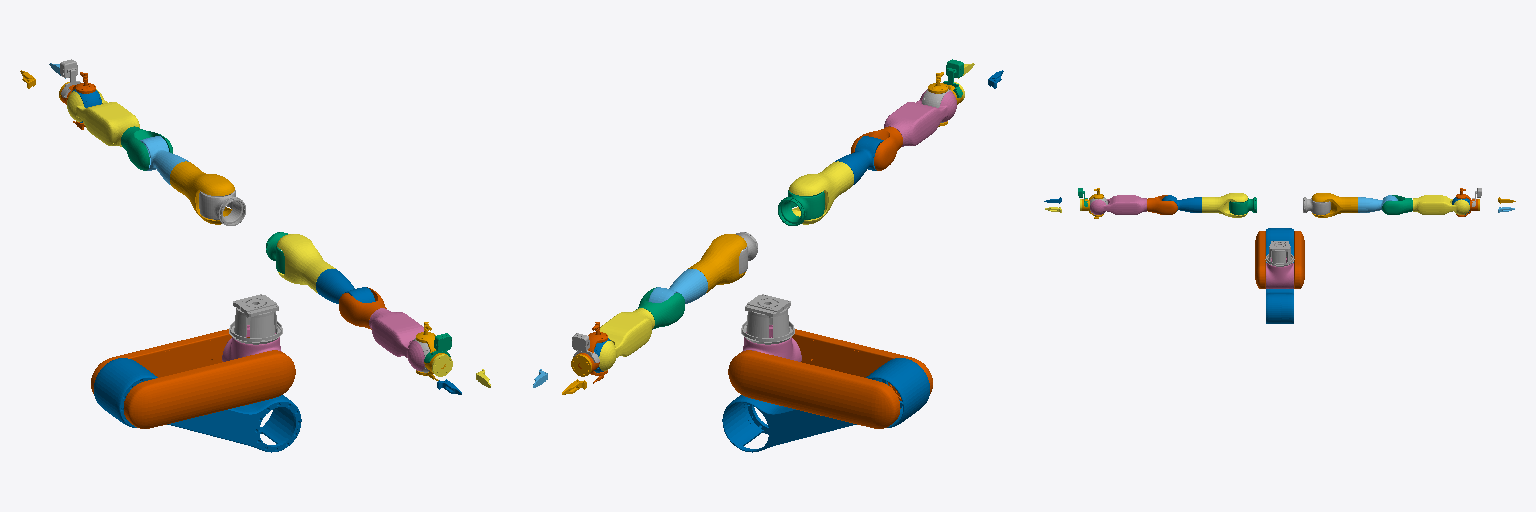
--- Render facts (derived) ---
Views: 3 orthographic renders of the robot side by side, from view 1: azimuth 30°, elevation 25°; view 2: azimuth 150°, elevation 25°; view 3: azimuth 270°, elevation 25°.
Model galbot_one_charlie with 59 links and 58 joints (24 revolute, 8 continuous, 26 fixed), rooted at base_link, posed all joints at 0.
Links seen in each view (by area): view 1: leg_link2, leg_link1, right_arm_link5, left_arm_link5, leg_link4, right_arm_link2, left_arm_link2, right_arm_link3, left_arm_link1, right_arm_link4, left_arm_link4, left_arm_link3 (+1 smaller); view 2: leg_link2, leg_link1, left_arm_link5, right_arm_link5, leg_link4, left_arm_link2, right_arm_link2, left_arm_link3, right_arm_link1, right_arm_link4, left_arm_link4, right_arm_link3 (+1 smaller); view 3: leg_link1, leg_link2, right_arm_link5, left_arm_link5, right_arm_link2, left_arm_link2, leg_link3, leg_link4.
Link boxes in pixels (x1=…): leg_link2: x1=91, y1=329, x2=295, y2=428; leg_link1: x1=94, y1=358, x2=301, y2=452; right_arm_link5: x1=369, y1=308, x2=424, y2=370; left_arm_link5: x1=67, y1=89, x2=139, y2=146; leg_link4: x1=229, y1=294, x2=282, y2=344; right_arm_link2: x1=277, y1=234, x2=335, y2=292; left_arm_link2: x1=170, y1=161, x2=234, y2=224; right_arm_link3: x1=316, y1=269, x2=375, y2=303; left_arm_link1: x1=199, y1=190, x2=245, y2=225; right_arm_link4: x1=339, y1=287, x2=386, y2=329; left_arm_link4: x1=121, y1=126, x2=172, y2=170; left_arm_link3: x1=140, y1=136, x2=188, y2=184; leg_link2: x1=728, y1=329, x2=932, y2=428; leg_link1: x1=722, y1=358, x2=929, y2=452; left_arm_link5: x1=599, y1=308, x2=654, y2=370; right_arm_link5: x1=884, y1=89, x2=956, y2=146; leg_link4: x1=741, y1=294, x2=794, y2=344; left_arm_link2: x1=688, y1=234, x2=746, y2=292; right_arm_link2: x1=789, y1=161, x2=853, y2=224; left_arm_link3: x1=648, y1=269, x2=707, y2=303; right_arm_link1: x1=778, y1=190, x2=824, y2=225; right_arm_link4: x1=851, y1=126, x2=902, y2=170; left_arm_link4: x1=636, y1=287, x2=684, y2=329; right_arm_link3: x1=835, y1=136, x2=883, y2=184; leg_link1: x1=1266, y1=228, x2=1293, y2=323; leg_link2: x1=1255, y1=231, x2=1304, y2=288; right_arm_link5: x1=1090, y1=195, x2=1146, y2=214; left_arm_link5: x1=1413, y1=195, x2=1469, y2=214; right_arm_link2: x1=1202, y1=193, x2=1247, y2=217; left_arm_link2: x1=1312, y1=193, x2=1357, y2=217; leg_link3: x1=1266, y1=257, x2=1293, y2=288; leg_link4: x1=1265, y1=241, x2=1294, y2=266.
Bounding box of the posed robot: 0.573 × 2.38 × 0.7349 m (x, y, z).
Meshes: 32 distinct files referenced, 26 mesh visuals loaded (22 OBJ); not drawn: 17 (reference not matched to a file when rendering).

The robot description file, URDF, robot "galbot_one_charlie":
<?xml version="1.0"?>
<!-- =================================================================================== -->
<!-- |    This document was autogenerated by xacro from galbot_one_charlie.xacro       | -->
<!-- |    EDITING THIS FILE BY HAND IS NOT RECOMMENDED                                 | -->
<!-- =================================================================================== -->
<!-- 
#####################################################################################
#
# Copyright (c) 2023-2025 Galbot, Inc. All rights Reserved.
#
# This software contains confidential and proprietary information of Galbot, Inc.
# ("Confidential Information"). You shall not disclose such Confidential Information
# and shall use it only in accordance with the terms of the license agreement you
# entered into with Galbot, Inc.
#
# UNAUTHORIZED COPYING, USE, OR DISTRIBUTION OF THIS SOFTWARE, OR ANY PORTION OR
# DERIVATIVE THEREOF, IS STRICTLY PROHIBITED. IF YOU HAVE RECEIVED THIS SOFTWARE IN
# ERROR, PLEASE NOTIFY GALBOT, INC. IMMEDIATELY AND DELETE IT FROM YOUR SYSTEM.
#
#####################################################################################
#
# Description: URDF file for Galbot One Charlie.
# Author: Herman Ye@Galbot, Yuhao Zeng@Galbot
#
#####################################################################################
-->
<robot name="galbot_one_charlie">
  <!-- ROBOT -->
  <!-- Robot Base Link -->
  <link name="base_link">
  </link>
  <joint name="omni_chassis_joint" type="fixed">
    <origin rpy="0 0 0" xyz="0 0 0" />
    <parent link="base_link" />
    <child link="omni_chassis_base_link" />
  </joint>
  <link name="omni_chassis_base_link">
    <inertial>
      <origin rpy="0 0 0" xyz="0.00310 0.00022 0.09001" />
      <mass value="25.85" />
      <inertia ixx="1.12288" ixy="0.0" ixz="0.0" iyy="1.15522" iyz="0.0" izz="1.58321" />
    </inertial>
    <visual>
      <origin rpy="0 0 0" xyz="0 0 0" />
      <geometry>
        <mesh filename="meshes/chassis/omni_chassis_base_link.obj" />
      </geometry>
    </visual>
    <collision>
      <origin rpy="0 0 0" xyz="0 0 0" />
      <geometry>
        <mesh filename="meshes/chassis/omni_chassis_base_link.stl" />
      </geometry>
    </collision>
  </link>
  <link name="omni_chassis_leg_mount_link">
    <inertial>
      <origin rpy="0 0 0" xyz="0 0 0" />
      <mass value="0" />
      <inertia ixx="0" ixy="0" ixz="0" iyy="0" iyz="0" izz="0" />
    </inertial>
  </link>
  <joint name="omni_chassis_leg_mount_joint" type="fixed">
    <origin rpy="0 0 0" xyz="0.134 0 0.13" />
    <parent link="omni_chassis_base_link" />
    <child link="omni_chassis_leg_mount_link" />
    <axis xyz="0 0 0" />
  </joint>
  <joint name="leg_joint" type="fixed">
    <origin rpy="0 0 0" xyz="0 0 0" />
    <parent link="omni_chassis_leg_mount_link" />
    <child link="leg_base_link" />
  </joint>
  <link name="leg_base_link">
    <inertial>
      <origin rpy="0 0 0" xyz="0.00138 -0.01502 -0.05360" />
      <mass value="1.98" />
      <inertia ixx="0.01545" ixy="0.0" ixz="0.0" iyy="0.01172" iyz="0.0" izz="0.00904" />
    </inertial>
  </link>
  <link name="leg_link1">
    <inertial>
      <origin rpy="0 0 0" xyz="0.23126 0.00187 -0.01166" />
      <mass value="13.38" />
      <inertia ixx="0.05540" ixy="0.00267" ixz="-0.03511" iyy="1.17040" iyz="-0.00012" izz="1.15967" />
    </inertial>
    <visual>
      <origin rpy="0 0 0" xyz="0 0 0" />
      <geometry>
        <mesh filename="meshes/leg/leg_link1.obj" />
      </geometry>
    </visual>
    <collision>
      <origin rpy="0 0 0" xyz="0 0 0" />
      <geometry>
        <mesh filename="meshes/leg/leg_link1.stl" />
      </geometry>
    </collision>
  </link>
  <joint name="leg_joint1" type="revolute">
    <origin rpy="-1.5707963267948966 -2.756573021 0" xyz="0 0 0" />
    <parent link="leg_base_link" />
    <child link="leg_link1" />
    <axis xyz="0 0 1" />
    <limit effort="169" lower="0" upper="0.994837674" velocity="1" />
  </joint>
  <link name="leg_link2">
    <inertial>
      <origin rpy="0 0 0" xyz="0.18340 0.00001 0.01143" />
      <mass value="4.72" />
      <inertia ixx="0.04727" ixy="0.00001" ixz="0.01147" iyy="0.29026" iyz="0.00001" izz="0.25782" />
    </inertial>
    <visual>
      <origin rpy="0 0 0" xyz="0 0 0" />
      <geometry>
        <mesh filename="meshes/leg/leg_link2.obj" />
      </geometry>
    </visual>
    <collision>
      <origin rpy="0 0 0" xyz="0 0 0" />
      <geometry>
        <mesh filename="meshes/leg/leg_link2.stl" />
      </geometry>
    </collision>
  </link>
  <joint name="leg_joint2" type="revolute">
    <origin rpy="-3.141592653589793 0 2.756573021" xyz="0.45 0 0" />
    <parent link="leg_link1" />
    <child link="leg_link2" />
    <axis xyz="0 0 1" />
    <limit effort="169" lower="0" upper="3.05" velocity="1" />
  </joint>
  <link name="leg_link3">
    <inertial>
      <origin rpy="0 0 0" xyz="0.00004 0.03287 -0.00556" />
      <mass value="6.04" />
      <inertia ixx="0.02981" ixy="0.00001" ixz="-0.00000" iyy="0.02294" iyz="-0.00079" izz="0.03182" />
    </inertial>
    <visual>
      <origin rpy="0 0 0" xyz="0 0 0" />
      <geometry>
        <mesh filename="meshes/leg/leg_link3.obj" />
      </geometry>
    </visual>
    <collision>
      <origin rpy="0 0 0" xyz="0 0 0" />
      <geometry>
        <mesh filename="meshes/leg/leg_link3.stl" />
      </geometry>
    </collision>
  </link>
  <joint name="leg_joint3" type="revolute">
    <origin rpy="-3.141592653589793 0 -3.141592653589793" xyz="0.39 0 0" />
    <parent link="leg_link2" />
    <child link="leg_link3" />
    <axis xyz="0 0 1" />
    <limit effort="84" lower="0" upper="2.35619449" velocity="1" />
  </joint>
  <link name="leg_link4">
    <inertial>
      <origin rpy="0 0 0" xyz="0.00006 -0.00003 0.14494" />
      <mass value="0.55" />
      <inertia ixx="0.01267" ixy="0.00000" ixz="0.00001" iyy="0.01270" iyz="-0.00000" izz="0.00125" />
    </inertial>
    <visual>
      <origin rpy="0 0 0" xyz="0 0 0" />
      <geometry>
        <mesh filename="meshes/leg/leg_link4.obj" />
      </geometry>
    </visual>
    <collision>
      <origin rpy="0 0 0" xyz="0 0 0" />
      <geometry>
        <mesh filename="meshes/leg/leg_link4.stl" />
      </geometry>
    </collision>
  </link>
  <joint name="leg_joint4" type="revolute">
    <origin rpy="1.5707963267948966 0 -3.141592653589793" xyz="0 0 0" />
    <parent link="leg_link3" />
    <child link="leg_link4" />
    <axis xyz="0 0 1" />
    <limit effort="30" lower="-1.570796327" upper="1.570796327" velocity="1" />
  </joint>
  <link name="leg_end_effector_mount_link">
    <inertial>
      <origin rpy="0 0 0" xyz="0 0 0" />
      <mass value="0" />
      <inertia ixx="0" ixy="0" ixz="0" iyy="0" iyz="0" izz="0" />
    </inertial>
  </link>
  <joint name="leg_end_effector_mount_joint" type="fixed">
    <origin rpy="0 0 0" xyz="0 0 0" />
    <parent link="leg_link4" />
    <child link="leg_end_effector_mount_link" />
    <axis xyz="0 0 0" />
  </joint>
  <joint name="torso_joint" type="fixed">
    <origin rpy="0 0 0" xyz="0 0 0" />
    <parent link="leg_end_effector_mount_link" />
    <child link="torso_base_link" />
  </joint>
  <link name="torso_base_link">
    <inertial>
      <origin rpy="0 0 0" xyz="0.00004 0.00011 0.32719" />
      <mass value="6.68" />
      <inertia ixx="0.87119" ixy="0.00009" ixz="-0.00496" iyy="0.85457" iyz="0.00295" izz="0.06560" />
    </inertial>
    <visual>
      <origin rpy="0 0 0" xyz="0 0 0" />
      <geometry>
        <mesh filename="meshes/torso/torso_base_link.obj" />
      </geometry>
    </visual>
    <collision>
      <origin rpy="0 0 0" xyz="0 0 0" />
      <geometry>
        <mesh filename="meshes/torso/torso_base_link.stl" />
      </geometry>
    </collision>
  </link>
  <!-- Head Mount -->
  <link name="torso_head_mount_link">
    <inertial>
      <origin rpy="0 0 0" xyz="0 0 0" />
      <mass value="0" />
      <inertia ixx="0" ixy="0" ixz="0" iyy="0" iyz="0" izz="0" />
    </inertial>
  </link>
  <joint name="torso_head_mount_joint" type="fixed">
    <origin rpy="0 0 0" xyz="-0.0081669 5E-05 0.58394" />
    <parent link="torso_base_link" />
    <child link="torso_head_mount_link" />
    <axis xyz="0 0 0" />
  </joint>
  <!-- Right Arm Mount -->
  <link name="torso_right_arm_mount_link">
    <inertial>
      <origin rpy="0 0 0" xyz="0 0 0" />
      <mass value="0" />
      <inertia ixx="0" ixy="0" ixz="0" iyy="0" iyz="0" izz="0" />
    </inertial>
  </link>
  <joint name="torso_right_arm_mount_joint" type="fixed">
    <origin rpy="-1.5707963267948966 0 3.141592653589793" xyz="0 -0.206 0.39599" />
    <parent link="torso_base_link" />
    <child link="torso_right_arm_mount_link" />
    <axis xyz="0 0 0" />
  </joint>
  <!-- Left Arm Mount -->
  <link name="torso_left_arm_mount_link">
    <inertial>
      <origin rpy="0 0 0" xyz="0 0 0" />
      <mass value="0" />
      <inertia ixx="0" ixy="0" ixz="0" iyy="0" iyz="0" izz="0" />
    </inertial>
  </link>
  <joint name="torso_left_arm_mount_joint" type="fixed">
    <origin rpy="1.5707963267948966 0 3.141592653589793" xyz="0 0.206 0.39599" />
    <parent link="torso_base_link" />
    <child link="torso_left_arm_mount_link" />
    <axis xyz="0 0 0" />
  </joint>
  <joint name="head_joint" type="fixed">
    <origin rpy="0 0 0" xyz="0 0 0" />
    <parent link="torso_head_mount_link" />
    <child link="head_base_link" />
  </joint>
  <link name="head_base_link">
    <inertial>
      <origin rpy="0 0 0" xyz="0 0 0" />
      <mass value="0" />
      <inertia ixx="0" ixy="0" ixz="0" iyy="0" iyz="0" izz="0" />
    </inertial>
  </link>
  <link name="head_link1">
    <inertial>
      <origin rpy="0 0 0" xyz="0.00000 0.00004 -0.04238" />
      <mass value="0.41" />
      <inertia ixx="0.00110" ixy="-0.00000" ixz="0.00000" iyy="0.00113" iyz="0.00008" izz="0.00014" />
    </inertial>
  </link>
  <joint name="head_joint1" type="revolute">
    <origin rpy="0 0 0" xyz="0 0 0" />
    <parent link="head_base_link" />
    <child link="head_link1" />
    <axis xyz="0 0 1" />
    <limit effort="4" lower="-1.570796327" upper="1.570796327" velocity="1.5" />
  </joint>
  <link name="head_link2">
    <inertial>
      <origin rpy="0 0 0" xyz="0.03200 -0.03753 0.00162" />
      <mass value="0.75" />
      <inertia ixx="0.00380" ixy="-0.00070" ixz="0.00000" iyy="0.00367" iyz="-0.00000" izz="0.00538" />
    </inertial>
    <visual>
      <origin rpy="0 0 0" xyz="0 0 0" />
      <geometry>
        <mesh filename="meshes/head/head_link2.obj" />
      </geometry>
    </visual>
    <collision>
      <origin rpy="0 0 0" xyz="0 0 0" />
      <geometry>
        <mesh filename="meshes/head/head_link2.stl" />
      </geometry>
    </collision>
  </link>
  <joint name="head_joint2" type="revolute">
    <origin rpy="-1.5707963267948966 0 0" xyz="0 0 0" />
    <parent link="head_link1" />
    <child link="head_link2" />
    <axis xyz="0 0 1" />
    <limit effort="4" lower="-0.366519143" upper="0.366519143" velocity="1.5" />
  </joint>
  <link name="head_end_effector_mount_link">
    <inertial>
      <origin rpy="0 0 0" xyz="0 0 0" />
      <mass value="0" />
      <inertia ixx="0" ixy="0" ixz="0" iyy="0" iyz="0" izz="0" />
    </inertial>
  </link>
  <joint name="head_end_effector_mount_joint" type="fixed">
    <origin rpy="0 0 0" xyz="0 0 0" />
    <parent link="head_link2" />
    <child link="head_end_effector_mount_link" />
    <axis xyz="0 0 0" />
  </joint>
  <joint name="right_arm_joint" type="fixed">
    <origin rpy="0 0 0" xyz="0 0 0" />
    <parent link="torso_right_arm_mount_link" />
    <child link="right_arm_base_link" />
  </joint>
  <link name="right_arm_base_link">
    <inertial>
      <origin rpy="0 0 0" xyz="-0.00037 -0.00006 -0.11407" />
      <mass value="0.9" />
      <inertia ixx="0.01248" ixy="0.00000" ixz="0.00003" iyy="0.01247" iyz="0.00003" izz="0.00056" />
    </inertial>
  </link>
  <link name="right_arm_link1">
    <inertial>
      <origin rpy="0 0 0" xyz="0.00000 -0.00650 -0.01459" />
      <mass value="1.48" />
      <inertia ixx="0.00378" ixy="0.00000" ixz="0.00000" iyy="0.00460" iyz="0.00008" izz="0.00217" />
    </inertial>
    <visual>
      <origin rpy="0 0 0" xyz="0 0 0" />
      <geometry>
        <mesh filename="meshes/arm/right_arm_link1.obj" />
      </geometry>
    </visual>
    <collision>
      <origin rpy="0 0 0" xyz="0 0 0" />
      <geometry>
        <mesh filename="meshes/arm/right_arm_link1.stl" />
      </geometry>
    </collision>
  </link>
  <joint name="right_arm_joint1" type="revolute">
    <origin rpy="0 0 0" xyz="0 0 0" />
    <parent link="right_arm_base_link" />
    <child link="right_arm_link1" />
    <axis xyz="0 0 1" />
    <limit acceleration="2" effort="60" jerk="12" lower="-3" upper="3" velocity="1.5" />
    <dynamics damping="0" friction="0" />
  </joint>
  <link name="right_arm_link2">
    <inertial>
      <origin rpy="0 0 0" xyz="-0.00080 -0.09873 0.00815" />
      <mass value="1.33" />
      <inertia ixx="0.01827" ixy="0.00003" ixz="0.00001" iyy="0.00232" iyz="0.00080" izz="0.01769" />
    </inertial>
    <visual>
      <origin rpy="0 0 0" xyz="0 0 0" />
      <geometry>
        <mesh filename="meshes/arm/right_arm_link2.obj" />
      </geometry>
    </visual>
    <collision>
      <origin rpy="0 0 0" xyz="0 0 0" />
      <geometry>
        <mesh filename="meshes/arm/right_arm_link2.stl" />
      </geometry>
    </collision>
  </link>
  <joint name="right_arm_joint2" type="revolute">
    <origin rpy="-1.5707963267948966 0 3.141592653589793" xyz="0 0 0" />
    <parent link="right_arm_link1" />
    <child link="right_arm_link2" />
    <axis xyz="0 0 1" />
    <limit acceleration="2" effort="60" jerk="12" lower="-1.5707963267948966" upper="1.7"
      velocity="1.5" />
    <dynamics damping="0" friction="0" />
  </joint>
  <link name="right_arm_link3">
    <inertial>
      <origin rpy="0 0 0" xyz="-0.00019 -0.00330 -0.04824" />
      <mass value="1.25" />
      <inertia ixx="0.00955" ixy="0.00000" ixz="0.00001" iyy="0.00983" iyz="0.00007" izz="0.00151" />
    </inertial>
    <visual>
      <origin rpy="0 0 0" xyz="0 0 0" />
      <geometry>
        <mesh filename="meshes/arm/right_arm_link3.obj" />
      </geometry>
    </visual>
    <collision>
      <origin rpy="0 0 0" xyz="0 0 0" />
      <geometry>
        <mesh filename="meshes/arm/right_arm_link3.stl" />
      </geometry>
    </collision>
  </link>
  <joint name="right_arm_joint3" type="revolute">
    <origin rpy="1.5707963267948966 -1.5707963267948966 0" xyz="0 -0.35 0" />
    <parent link="right_arm_link2" />
    <child link="right_arm_link3" />
    <axis xyz="0 0 1" />
    <limit acceleration="2" effort="30" jerk="12" lower="-2.9" upper="2.9" velocity="1.5" />
    <dynamics damping="0" friction="0" />
  </joint>
  <link name="right_arm_link4">
    <inertial>
      <origin rpy="0 0 0" xyz="0.00000 -0.06457 0.00899" />
      <mass value="0.8" />
      <inertia ixx="0.00529" ixy="0.00000" ixz="0.00000" iyy="0.00120" iyz="0.00030" izz="0.00488" />
    </inertial>
    <visual>
      <origin rpy="0 0 0" xyz="0 0 0" />
      <geometry>
        <mesh filename="meshes/arm/right_arm_link4.obj" />
      </geometry>
    </visual>
    <collision>
      <origin rpy="0 0 0" xyz="0 0 0" />
      <geometry>
        <mesh filename="meshes/arm/right_arm_link4.stl" />
      </geometry>
    </collision>
  </link>
  <joint name="right_arm_joint4" type="revolute">
    <origin rpy="-1.5707963267948966 0 3.141592653589793" xyz="0 0 0" />
    <parent link="right_arm_link3" />
    <child link="right_arm_link4" />
    <axis xyz="0 0 1" />
    <limit acceleration="2" effort="30" jerk="12" lower="-2.1" upper="2.1" velocity="1.5" />
    <dynamics damping="0" friction="0" />
  </joint>
  <link name="right_arm_link5">
    <inertial>
      <origin rpy="0 0 0" xyz="0.00201 -0.00042 -0.14589" />
      <mass value="1.22" />
      <inertia ixx="0.03428" ixy="0.00001" ixz="0.00032" iyy="0.03366" iyz="0.00005" izz="0.00222" />
    </inertial>
    <visual>
      <origin rpy="0 0 0" xyz="0 0 0" />
      <geometry>
        <mesh filename="meshes/arm/right_arm_link5.obj" />
      </geometry>
    </visual>
    <collision>
      <origin rpy="0 0 0" xyz="0 0 0" />
      <geometry>
        <mesh filename="meshes/arm/right_arm_link5.stl" />
      </geometry>
    </collision>
  </link>
  <joint name="right_arm_joint5" type="revolute">
    <origin rpy="1.5707963267948966 0 0" xyz="0 -0.36 0" />
    <parent link="right_arm_link4" />
    <child link="right_arm_link5" />
    <axis xyz="0 0 1" />
    <limit acceleration="2" effort="10" jerk="12" lower="-2.9" upper="2.9" velocity="1.5" />
    <dynamics damping="0" friction="0" />
  </joint>
  <link name="right_arm_link6">
    <inertial>
      <origin rpy="0 0 0" xyz="0.00000 0.01031 0.00000" />
      <mass value="0.43" />
      <inertia ixx="0.00051" ixy="0.00000" ixz="0.00000" iyy="0.00070" iyz="0.00000" izz="0.00091" />
    </inertial>
    <visual>
      <origin rpy="0 0 0" xyz="0 0 0" />
      <geometry>
        <mesh filename="meshes/arm/right_arm_link6.obj" />
      </geometry>
    </visual>
    <collision>
      <origin rpy="0 0 0" xyz="0 0 0" />
      <geometry>
        <mesh filename="meshes/arm/right_arm_link6.stl" />
      </geometry>
    </collision>
  </link>
  <joint name="right_arm_joint6" type="revolute">
    <origin rpy="-1.5707963267948966 1.5707963267948966 3.141592653589793" xyz="0 0 0" />
    <parent link="right_arm_link5" />
    <child link="right_arm_link6" />
    <axis xyz="0 0 1" />
    <limit acceleration="2" effort="10" jerk="12" lower="-0.785398163" upper="0.785398163"
      velocity="1.5" />
    <dynamics damping="0" friction="0" />
  </joint>
  <link name="right_arm_link7">
    <inertial>
      <origin rpy="0 0 0" xyz="-0.03291 0.00799 -0.00131" />
      <mass value="0.6" />
      <inertia ixx="0.00124" ixy="0.00030" ixz="0.00013" iyy="0.00198" iyz="0.00007" izz="0.00164" />
    </inertial>
    <visual>
      <origin rpy="0 0 0" xyz="0 0 0" />
      <geometry>
        <mesh filename="meshes/arm/right_arm_link7.obj" />
      </geometry>
    </visual>
    <collision>
      <origin rpy="0 0 0" xyz="0 0 0" />
      <geometry>
        <mesh filename="meshes/arm/right_arm_link7.stl" />
      </geometry>
    </collision>
  </link>
  <joint name="right_arm_joint7" type="revolute">
    <origin rpy="-1.5707963267948966 0 0" xyz="0 0 0" />
    <parent link="right_arm_link6" />
    <child link="right_arm_link7" />
    <axis xyz="0 0 1" />
    <limit acceleration="2" effort="10" jerk="12" lower="-1.4" upper="1.4" velocity="1.5" />
    <dynamics damping="0" friction="0" />
  </joint>
  <link name="right_arm_end_effector_mount_link">
    <inertial>
      <origin rpy="0 0 0" xyz="0 0 0" />
      <mass value="0" />
      <inertia ixx="0" ixy="0" ixz="0" iyy="0" iyz="0" izz="0" />
    </inertial>
  </link>
  <joint name="right_arm_end_effector_mount_joint" type="fixed">
    <origin rpy="1.5707963267948966 0 3.141592653589793" xyz="-0.083 0 0" />
    <parent link="right_arm_link7" />
    <child link="right_arm_end_effector_mount_link" />
    <axis xyz="0 0 0" />
  </joint>
  <link name="right_gripper_camera_link">
    <visual>
      <geometry>
        <mesh filename="meshes/gripper/robotiq_gripper/visual/2f_85/d405_camera_link.obj" />
      </geometry>
    </visual>
    <collision>
      <geometry>
        <mesh
          filename="meshes/gripper/robotiq_gripper/collision/2f_85/d405_camera_link_convex_decomposition/d405_camera_link_collision_0.obj" />
      </geometry>
    </collision>
    <collision>
      <geometry>
        <mesh
          filename="meshes/gripper/robotiq_gripper/collision/2f_85/d405_camera_link_convex_decomposition/d405_camera_link_collision_1.obj" />
      </geometry>
    </collision>
    <collision>
      <geometry>
        <mesh
          filename="meshes/gripper/robotiq_gripper/collision/2f_85/d405_camera_link_convex_decomposition/d405_camera_link_collision_2.obj" />
      </geometry>
    </collision>
    <collision>
      <geometry>
        <mesh
          filename="meshes/gripper/robotiq_gripper/collision/2f_85/d405_camera_link_convex_decomposition/d405_camera_link_collision_3.obj" />
      </geometry>
    </collision>
    <collision>
      <geometry>
        <mesh
          filename="meshes/gripper/robotiq_gripper/collision/2f_85/d405_camera_link_convex_decomposition/d405_camera_link_collision_4.obj" />
      </geometry>
    </collision>
    <collision>
      <geometry>
        <mesh
          filename="meshes/gripper/robotiq_gripper/collision/2f_85/d405_camera_link_convex_decomposition/d405_camera_link_collision_5.obj" />
      </geometry>
    </collision>
    <collision>
      <geometry>
        <mesh
          filename="meshes/gripper/robotiq_gripper/collision/2f_85/d405_camera_link_convex_decomposition/d405_camera_link_collision_6.obj" />
      </geometry>
    </collision>
    <collision>
      <geometry>
        <mesh
          filename="meshes/gripper/robotiq_gripper/collision/2f_85/d405_camera_link_convex_decomposition/d405_camera_link_collision_7.obj" />
      </geometry>
    </collision>
    <collision>
      <geometry>
        <mesh
          filename="meshes/gripper/robotiq_gripper/collision/2f_85/d405_camera_link_convex_decomposition/d405_camera_link_collision_8.obj" />
      </geometry>
    </collision>
    <collision>
      <geometry>
        <mesh
          filename="meshes/gripper/robotiq_gripper/collision/2f_85/d405_camera_link_convex_decomposition/d405_camera_link_collision_9.obj" />
      </geometry>
    </collision>
    <collision>
      <geometry>
        <mesh
          filename="meshes/gripper/robotiq_gripper/collision/2f_85/d405_camera_link_convex_decomposition/d405_camera_link_collision_10.obj" />
      </geometry>
    </collision>
    <collision>
      <geometry>
        <mesh
          filename="meshes/gripper/robotiq_gripper/collision/2f_85/d405_camera_link_convex_decomposition/d405_camera_link_collision_11.obj" />
      </geometry>
    </collision>
    <collision>
      <geometry>
        <mesh
          filename="meshes/gripper/robotiq_gripper/collision/2f_85/d405_camera_link_convex_decomposition/d405_camera_link_collision_12.obj" />
      </geometry>
    </collision>
    <collision>
      <geometry>
        <mesh
          filename="meshes/gripper/robotiq_gripper/collision/2f_85/d405_camera_link_convex_decomposition/d405_camera_link_collision_13.obj" />
      </geometry>
    </collision>
    <collision>
      <geometry>
        <mesh
          filename="meshes/gripper/robotiq_gripper/collision/2f_85/d405_camera_link_convex_decomposition/d405_camera_link_collision_14.obj" />
      </geometry>
    </collision>
    <collision>
      <geometry>
        <mesh
          filename="meshes/gripper/robotiq_gripper/collision/2f_85/d405_camera_link_convex_decomposition/d405_camera_link_collision_15.obj" />
      </geometry>
    </collision>
    <collision>
      <geometry>
        <mesh
          filename="meshes/gripper/robotiq_gripper/collision/2f_85/d405_camera_link_convex_decomposition/d405_camera_link_collision_16.obj" />
      </geometry>
    </collision>
    <collision>
      <geometry>
        <mesh
          filename="meshes/gripper/robotiq_gripper/collision/2f_85/d405_camera_link_convex_decomposition/d405_camera_link_collision_17.obj" />
      </geometry>
    </collision>
    <collision>
      <geometry>
        <mesh
          filename="meshes/gripper/robotiq_gripper/collision/2f_85/d405_camera_link_convex_decomposition/d405_camera_link_collision_18.obj" />
      </geometry>
    </collision>
    <collision>
      <geometry>
        <mesh
          filename="meshes/gripper/robotiq_gripper/collision/2f_85/d405_camera_link_convex_decomposition/d405_camera_link_collision_19.obj" />
      </geometry>
    </collision>
    <collision>
      <geometry>
        <mesh
          filename="meshes/gripper/robotiq_gripper/collision/2f_85/d405_camera_link_convex_decomposition/d405_camera_link_collision_20.obj" />
      </geometry>
    </collision>
    <collision>
      <geometry>
        <mesh
          filename="meshes/gripper/robotiq_gripper/collision/2f_85/d405_camera_link_convex_decomposition/d405_camera_link_collision_21.obj" />
      </geometry>
    </collision>
    <collision>
      <geometry>
        <mesh
          filename="meshes/gripper/robotiq_gripper/collision/2f_85/d405_camera_link_convex_decomposition/d405_camera_link_collision_22.obj" />
      </geometry>
    </collision>
    <collision>
      <geometry>
        <mesh
          filename="meshes/gripper/robotiq_gripper/collision/2f_85/d405_camera_link_convex_decomposition/d405_camera_link_collision_23.obj" />
      </geometry>
    </collision>
    <collision>
      <geometry>
        <mesh
          filename="meshes/gripper/robotiq_gripper/collision/2f_85/d405_camera_link_convex_decomposition/d405_camera_link_collision_24.obj" />
      </geometry>
    </collision>
    <collision>
      <geometry>
        <mesh
          filename="meshes/gripper/robotiq_gripper/collision/2f_85/d405_camera_link_convex_decomposition/d405_camera_link_collision_25.obj" />
      </geometry>
    </collision>
    <collision>
      <geometry>
        <mesh
          filename="meshes/gripper/robotiq_gripper/collision/2f_85/d405_camera_link_convex_decomposition/d405_camera_link_collision_26.obj" />
      </geometry>
    </collision>
    <collision>
      <geometry>
        <mesh
          filename="meshes/gripper/robotiq_gripper/collision/2f_85/d405_camera_link_convex_decomposition/d405_camera_link_collision_27.obj" />
      </geometry>
    </collision>
    <collision>
      <geometry>
        <mesh
          filename="meshes/gripper/robotiq_gripper/collision/2f_85/d405_camera_link_convex_decomposition/d405_camera_link_collision_28.obj" />
      </geometry>
    </collision>
    <collision>
      <geometry>
        <mesh
          filename="meshes/gripper/robotiq_gripper/collision/2f_85/d405_camera_link_convex_decomposition/d405_camera_link_collision_29.obj" />
      </geometry>
    </collision>
    <collision>
      <geometry>
        <mesh
          filename="meshes/gripper/robotiq_gripper/collision/2f_85/d405_camera_link_convex_decomposition/d405_camera_link_collision_30.obj" />
      </geometry>
    </collision>
    <collision>
      <geometry>
        <mesh
          filename="meshes/gripper/robotiq_gripper/collision/2f_85/d405_camera_link_convex_decomposition/d405_camera_link_collision_31.obj" />
      </geometry>
    </collision>
    <collision>
      <geometry>
        <mesh
          filename="meshes/gripper/robotiq_gripper/collision/2f_85/d405_camera_link_convex_decomposition/d405_camera_link_collision_32.obj" />
      </geometry>
    </collision>
  </link>
  <link name="right_gripper_galbot_to_robotiq_adapter_link">
    <inertial>
      <origin rpy="0 0 0" xyz="-1.9028E-07 5.9618E-18 -0.0041416" />
      <mass value="0.023056" />
      <inertia ixx="5.5937E-06" ixy="-4.3322E-08" ixz="2.321E-10" iyy="5.3172E-06" iyz="1.9904E-12"
        izz="1.0645E-05" />
    </inertial>
    <visual>
      <origin rpy="0 0 0" xyz="0 0 0" />
      <geometry>
        <mesh filename="meshes/gripper/robotiq_gripper/visual/2f_85/galbot_to_robotiq_adapter.obj" />
      </geometry>
    </visual>
    <collision>
      <origin rpy="0 0 0" xyz="0 0 0" />
      <geometry>
        <mesh
          filename="meshes/gripper/robotiq_gripper/collision/2f_85/galbot_to_robotiq_adapter_convex.stl" />
      </geometry>
    </collision>
  </link>
  <link name="right_gripper_robotiq_85_base_link">
    <visual>
      <geometry>
        <mesh filename="meshes/gripper/robotiq_gripper/visual/2f_85/robotiq_base.dae" />
      </geometry>
    </visual>
    <collision>
      <geometry>
        <mesh filename="meshes/gripper/robotiq_gripper/collision/2f_85/robotiq_base.stl" />
      </geometry>
    </collision>
    <inertial>
      <origin rpy="0 0 0" xyz="0.0 2.274e-05 0.03232288" />
      <mass value="6.6320197e-01" />
      <inertia ixx="5.1617816e-04" ixy="2.936e-8" ixz="0.0" iyy="5.8802208e-04" iyz="-3.2296e-7"
        izz="3.9462776e-04" />
    </inertial>
  </link>
  <link name="right_gripper_robotiq_85_left_knuckle_link">
    <visual>
      <geometry>
        <mesh filename="meshes/gripper/robotiq_gripper/visual/2f_85/left_knuckle.dae" />
      </geometry>
    </visual>
    <collision>
      <geometry>
        <mesh filename="meshes/gripper/robotiq_gripper/collision/2f_85/left_knuckle.stl" />
      </geometry>
    </collision>
    <inertial>
      <origin rpy="0 0 0" xyz="0.01213197 0.0002 -0.00058647" />
      <mass value="1.384773208e-02" />
      <inertia ixx="3.5232e-7" ixy="0.0" ixz="1.1744e-7" iyy="2.31944e-6" iyz="0" izz="2.23136e-6" />
    </inertial>
  </link>
  <link name="right_gripper_robotiq_85_right_knuckle_link">
    <visual>
      <geometry>
        <mesh filename="meshes/gripper/robotiq_gripper/visual/2f_85/right_knuckle.dae" />
      </geometry>
    </visual>
    <collision>
      <geometry>
        <mesh filename="meshes/gripper/robotiq_gripper/collision/2f_85/right_knuckle.stl" />
      </geometry>
    </collision>
    <inertial>
      <origin rpy="0 0 0" xyz="-0.01213197 0.0002 -0.00058647" />
      <mass value="1.384773208e-02" />
      <inertia ixx="3.5232e-7" ixy="0.0" ixz="-1.1744e-7" iyy="2.31944e-6" iyz="0.0"
        izz="2.23136e-6" />
    </inertial>
  </link>
  <link name="right_gripper_robotiq_85_left_finger_link">
    <visual>
      <geometry>
        <mesh filename="meshes/gripper/robotiq_gripper/visual/2f_85/left_finger.dae" />
      </geometry>
    </visual>
    <collision>
      <geometry>
        <mesh filename="meshes/gripper/robotiq_gripper/collision/2f_85/left_finger.stl" />
      </geometry>
    </collision>
    <inertial>
      <origin rpy="0 0 0" xyz="0.00346899 -0.00079447 0.01867121" />
      <mass value="4.260376752e-02" />
      <inertia ixx="1.385792000000000e-05" ixy="0.0" ixz="-2.17264e-06" iyy="1.183208e-05" iyz="0.0"
        izz="5.19672e-06" />
    </inertial>
  </link>
  <link name="right_gripper_robotiq_85_right_finger_link">
    <visual>
      <geometry>
        <mesh filename="meshes/gripper/robotiq_gripper/visual/2f_85/right_finger.dae" />
      </geometry>
    </visual>
    <collision>
      <geometry>
        <mesh filename="meshes/gripper/robotiq_gripper/collision/2f_85/right_finger.stl" />
      </geometry>
    </collision>
    <inertial>
      <origin rpy="0 0 0" xyz="-0.00346899 -5.53e-06 0.01867121" />
      <mass value="4.260376752000000e-02" />
      <inertia ixx="1.385792e-05" ixy="0.0" ixz="2.17264e-06" iyy="1.183208e-05" iyz="0.0"
        izz="5.19672e-06" />
    </inertial>
  </link>
  <link name="right_gripper_robotiq_85_left_inner_knuckle_link">
    <visual>
      <geometry>
        <mesh filename="meshes/gripper/robotiq_gripper/visual/2f_85/left_inner_knuckle.dae" />
      </geometry>
    </visual>
    <collision>
      <geometry>
        <mesh filename="meshes/gripper/robotiq_gripper/collision/2f_85/left_inner_knuckle.stl" />
      </geometry>
    </collision>
    <inertial>
      <origin rpy="0 0 0" xyz="0.01897699 0.00015001 0.02247101" />
      <mass value="2.969376448e-02" />
      <inertia ixx="9.57136e-06" ixy="0.0" ixz="-3.93424e-06" iyy="8.69056e-06" iyz="0.0"
        izz="8.19144e-06" />
    </inertial>
  </link>
  <link name="right_gripper_robotiq_85_right_inner_knuckle_link">
    <visual>
      <geometry>
        <mesh filename="meshes/gripper/robotiq_gripper/visual/2f_85/right_inner_knuckle.dae" />
      </geometry>
    </visual>
    <collision>
      <geometry>
        <mesh filename="meshes/gripper/robotiq_gripper/collision/2f_85/right_inner_knuckle.stl" />
      </geometry>
    </collision>
    <inertial>
      <origin rpy="0 0 0" xyz="-0.01926824 5.001e-05 0.02222178" />
      <mass value="2.969376448e-02" />
      <inertia ixx="9.42456e-06" ixy="0.0" ixz="3.9636e-06" iyy="8.69056e-06" iyz="0.0"
        izz="8.33824e-06" />
    </inertial>
  </link>
  <link name="right_gripper_robotiq_85_left_finger_tip_link">
    <visual>
      <geometry>
        <mesh filename="meshes/gripper/robotiq_gripper/visual/2f_85/left_finger_tip.obj" />
      </geometry>
    </visual>
    <collision>
      <geometry>
        <mesh
          filename="meshes/gripper/robotiq_gripper/collision/2f_85/left_finger_tip_convex_decomposition/left_finger_tip_collision_0.obj" />
      </geometry>
    </collision>
    <collision>
      <geometry>
        <mesh
          filename="meshes/gripper/robotiq_gripper/collision/2f_85/left_finger_tip_convex_decomposition/left_finger_tip_collision_1.obj" />
      </geometry>
    </collision>
    <collision>
      <geometry>
        <mesh
          filename="meshes/gripper/robotiq_gripper/collision/2f_85/left_finger_tip_convex_decomposition/left_finger_tip_collision_2.obj" />
      </geometry>
    </collision>
    <collision>
      <geometry>
        <mesh
          filename="meshes/gripper/robotiq_gripper/collision/2f_85/left_finger_tip_convex_decomposition/left_finger_tip_collision_3.obj" />
      </geometry>
    </collision>
    <collision>
      <geometry>
        <mesh
          filename="meshes/gripper/robotiq_gripper/collision/2f_85/left_finger_tip_convex_decomposition/left_finger_tip_collision_4.obj" />
      </geometry>
    </collision>
    <collision>
      <geometry>
        <mesh
          filename="meshes/gripper/robotiq_gripper/collision/2f_85/left_finger_tip_convex_decomposition/left_finger_tip_collision_5.obj" />
      </geometry>
    </collision>
    <collision>
      <geometry>
        <mesh
          filename="meshes/gripper/robotiq_gripper/collision/2f_85/left_finger_tip_convex_decomposition/left_finger_tip_collision_6.obj" />
      </geometry>
    </collision>
    <collision>
      <geometry>
        <mesh
          filename="meshes/gripper/robotiq_gripper/collision/2f_85/left_finger_tip_convex_decomposition/left_finger_tip_collision_7.obj" />
      </geometry>
    </collision>
    <collision>
      <geometry>
        <mesh
          filename="meshes/gripper/robotiq_gripper/collision/2f_85/left_finger_tip_convex_decomposition/left_finger_tip_collision_8.obj" />
      </geometry>
    </collision>
    <collision>
      <geometry>
        <mesh
          filename="meshes/gripper/robotiq_gripper/collision/2f_85/left_finger_tip_convex_decomposition/left_finger_tip_collision_9.obj" />
      </geometry>
    </collision>
    <inertial>
      <origin rpy="0 0 0" xyz="-0.01456706 -0.0008 0.01649701" />
      <mass value="4.268588744e-02" />
      <inertia ixx="1.048152e-05" ixy="0.0" ixz="3.5232e-6" iyy="1.197888e-05" iyz="0.0"
        izz="4.22784e-06" />
    </inertial>
  </link>
  <link name="right_gripper_robotiq_85_right_finger_tip_link">
    <visual>
      <geometry>
        <mesh filename="meshes/gripper/robotiq_gripper/visual/2f_85/right_finger_tip.obj" />
      </geometry>
    </visual>
    <collision>
      <geometry>
        <mesh
          filename="meshes/gripper/robotiq_gripper/collision/2f_85/right_finger_tip_convex_decomposition/right_finger_tip_collision_0.obj" />
      </geometry>
    </collision>
    <collision>
      <geometry>
        <mesh
          filename="meshes/gripper/robotiq_gripper/collision/2f_85/right_finger_tip_convex_decomposition/right_finger_tip_collision_1.obj" />
      </geometry>
    </collision>
    <collision>
      <geometry>
        <mesh
          filename="meshes/gripper/robotiq_gripper/collision/2f_85/right_finger_tip_convex_decomposition/right_finger_tip_collision_2.obj" />
      </geometry>
    </collision>
    <collision>
      <geometry>
        <mesh
          filename="meshes/gripper/robotiq_gripper/collision/2f_85/right_finger_tip_convex_decomposition/right_finger_tip_collision_3.obj" />
      </geometry>
    </collision>
    <collision>
      <geometry>
        <mesh
          filename="meshes/gripper/robotiq_gripper/collision/2f_85/right_finger_tip_convex_decomposition/right_finger_tip_collision_4.obj" />
      </geometry>
    </collision>
    <collision>
      <geometry>
        <mesh
          filename="meshes/gripper/robotiq_gripper/collision/2f_85/right_finger_tip_convex_decomposition/right_finger_tip_collision_5.obj" />
      </geometry>
    </collision>
    <collision>
      <geometry>
        <mesh
          filename="meshes/gripper/robotiq_gripper/collision/2f_85/right_finger_tip_convex_decomposition/right_finger_tip_collision_6.obj" />
      </geometry>
    </collision>
    <collision>
      <geometry>
        <mesh
          filename="meshes/gripper/robotiq_gripper/collision/2f_85/right_finger_tip_convex_decomposition/right_finger_tip_collision_7.obj" />
      </geometry>
    </collision>
    <collision>
      <geometry>
        <mesh
          filename="meshes/gripper/robotiq_gripper/collision/2f_85/right_finger_tip_convex_decomposition/right_finger_tip_collision_8.obj" />
      </geometry>
    </collision>
    <collision>
      <geometry>
        <mesh
          filename="meshes/gripper/robotiq_gripper/collision/2f_85/right_finger_tip_convex_decomposition/right_finger_tip_collision_9.obj" />
      </geometry>
    </collision>
    <collision>
      <geometry>
        <mesh
          filename="meshes/gripper/robotiq_gripper/collision/2f_85/right_finger_tip_convex_decomposition/right_finger_tip_collision_10.obj" />
      </geometry>
    </collision>
    <inertial>
      <origin rpy="0 0 0" xyz="0.01456706 5e-05 0.01649701" />
      <mass value="4.268588744e-02" />
      <inertia ixx="1.048152e-05" ixy="0.0" ixz="-3.5232e-06" iyy="1.197888e-05" iyz="0.0"
        izz="4.22784e-06" />
    </inertial>
  </link>
  <joint name="right_gripper_joint" type="fixed">
    <origin rpy="3.141592653589793 -1.5707963267948966 0" xyz="0.008 0 0" />
    <parent link="right_arm_end_effector_mount_link" />
    <child link="right_gripper_galbot_to_robotiq_adapter_link" />
  </joint>
  <joint name="right_gripper_camera_joint" type="fixed">
    <origin rpy="3.141592653589793 -1.5707963267948966 0" xyz="0.008 0 0" />
    <parent link="right_arm_end_effector_mount_link" />
    <child link="right_gripper_camera_link" />
  </joint>
  <joint name="right_gripper_galbot_to_robotiq_adapter_joint" type="fixed">
    <parent link="right_gripper_galbot_to_robotiq_adapter_link" />
    <child link="right_gripper_robotiq_85_base_link" />
    <origin rpy="0 0 0" xyz="0 0 0" />
    <axis xyz="0 0 0" />
  </joint>
  <joint name="right_gripper_robotiq_85_left_knuckle_joint" type="revolute">
    <parent link="right_gripper_robotiq_85_base_link" />
    <child link="right_gripper_robotiq_85_left_knuckle_link" />
    <axis xyz="0 1 0" />
    <origin rpy="0 0 0" xyz="0.03060114 0.0 0.05490452" />
    <limit effort="50" lower="-0.8" upper="0" velocity="0.5" />
    <mimic joint="right_gripper_robotiq_85_right_knuckle_joint" multiplier="-1" />
  </joint>
  <joint name="right_gripper_robotiq_85_right_knuckle_joint" type="revolute">
    <parent link="right_gripper_robotiq_85_base_link" />
    <child link="right_gripper_robotiq_85_right_knuckle_link" />
    <axis xyz="0 1 0" />
    <origin rpy="0 0 0" xyz="-0.03060114 0.0 0.05490452" />
    <limit effort="50" lower="0" upper="0.8" velocity="0.5" />
  </joint>
  <joint name="right_gripper_robotiq_85_left_finger_joint" type="fixed">
    <parent link="right_gripper_robotiq_85_left_knuckle_link" />
    <child link="right_gripper_robotiq_85_left_finger_link" />
    <origin rpy="0 0 0" xyz="0.03152616 0.0 -0.00376347" />
  </joint>
  <joint name="right_gripper_robotiq_85_right_finger_joint" type="fixed">
    <parent link="right_gripper_robotiq_85_right_knuckle_link" />
    <child link="right_gripper_robotiq_85_right_finger_link" />
    <origin rpy="0 0 0" xyz="-0.03152616 0.0 -0.00376347" />
  </joint>
  <joint name="right_gripper_robotiq_85_left_inner_knuckle_joint" type="continuous">
    <parent link="right_gripper_robotiq_85_base_link" />
    <child link="right_gripper_robotiq_85_left_inner_knuckle_link" />
    <axis xyz="0 1 0" />
    <origin rpy="0 0 0" xyz="0.0127 0.0 0.06142" />
    <limit effort="50" lower="-0.8" upper="0" velocity="0.5" />
    <mimic joint="right_gripper_robotiq_85_right_knuckle_joint" multiplier="-1" />
  </joint>
  <joint name="right_gripper_robotiq_85_right_inner_knuckle_joint" type="continuous">
    <parent link="right_gripper_robotiq_85_base_link" />
    <child link="right_gripper_robotiq_85_right_inner_knuckle_link" />
    <axis xyz="0 1 0" />
    <origin rpy="0 0 0" xyz="-0.0127 0.0 0.06142" />
    <limit effort="50" lower="0" upper="0.8" velocity="0.5" />
    <mimic joint="right_gripper_robotiq_85_right_knuckle_joint" multiplier="1" />
  </joint>
  <joint name="right_gripper_robotiq_85_left_finger_tip_joint" type="continuous">
    <parent link="right_gripper_robotiq_85_left_finger_link" />
    <child link="right_gripper_robotiq_85_left_finger_tip_link" />
    <axis xyz="0 1 0" />
    <origin rpy="0 0 0" xyz="0.00563134 0.0 0.04718515" />
    <limit effort="50" lower="0" upper="0.8" velocity="0.5" />
    <mimic joint="right_gripper_robotiq_85_right_knuckle_joint" multiplier="1" />
  </joint>
  <joint name="right_gripper_robotiq_85_right_finger_tip_joint" type="continuous">
    <parent link="right_gripper_robotiq_85_right_finger_link" />
    <child link="right_gripper_robotiq_85_right_finger_tip_link" />
    <axis xyz="0 1 0" />
    <origin rpy="0 0 0" xyz="-0.00563134 0.0 0.04718515" />
    <limit effort="50" lower="-0.8" upper="0" velocity="0.5" />
    <mimic joint="right_gripper_robotiq_85_right_knuckle_joint" multiplier="-1" />
  </joint>
  <!-- For tcp-->
  <link name="right_gripper_tcp_link" />
  <joint name="right_gripper_tcp_joint" type="fixed">
    <parent link="right_gripper_robotiq_85_base_link" />
    <child link="right_gripper_tcp_link" />
    <origin rpy="-1.5707963267948966 -1.5707963267948966 0" xyz="0.0 0.0 0.15" />
    <!-- 0.17084 is the distance between the gripper base link and the tcp link -->
  </joint>
  <joint name="left_arm_joint" type="fixed">
    <origin rpy="0 0 0" xyz="0 0 0" />
    <parent link="torso_left_arm_mount_link" />
    <child link="left_arm_base_link" />
  </joint>
  <link name="left_arm_base_link">
    <inertial>
      <origin rpy="0 0 0" xyz="-0.00037 -0.00006 -0.11407" />
      <mass value="0.9" />
      <inertia ixx="0.01248" ixy="0.00000" ixz="0.00003" iyy="0.01247" iyz="0.00003" izz="0.00056" />
    </inertial>
  </link>
  <link name="left_arm_link1">
    <inertial>
      <origin rpy="0 0 0" xyz="0.00000 0.00650 -0.01459" />
      <mass value="1.48" />
      <inertia ixx="0.00378" ixy="0.00000" ixz="0.00000" iyy="0.00460" iyz="0.00020" izz="0.00217" />
    </inertial>
    <visual>
      <origin rpy="0 0 0" xyz="0 0 0" />
      <geometry>
        <mesh filename="meshes/arm/left_arm_link1.obj" />
      </geometry>
    </visual>
    <collision>
      <origin rpy="0 0 0" xyz="0 0 0" />
      <geometry>
        <mesh filename="meshes/arm/left_arm_link1.stl" />
      </geometry>
    </collision>
  </link>
  <joint name="left_arm_joint1" type="revolute">
    <origin rpy="0 0 0" xyz="0 0 0" />
    <parent link="left_arm_base_link" />
    <child link="left_arm_link1" />
    <axis xyz="0 0 1" />
    <limit acceleration="2" effort="60" jerk="12" lower="-3" upper="3" velocity="1.5" />
    <dynamics damping="0" friction="0" />
  </joint>
  <link name="left_arm_link2">
    <inertial>
      <origin rpy="0 0 0" xyz="-0.00080 0.09873 0.00815" />
      <mass value="1.33" />
      <inertia ixx="0.01827" ixy="0.00003" ixz="0.00003" iyy="0.00232" iyz="0.00134" izz="0.01769" />
    </inertial>
    <visual>
      <origin rpy="0 0 0" xyz="0 0 0" />
      <geometry>
        <mesh filename="meshes/arm/left_arm_link2.obj" />
      </geometry>
    </visual>
    <collision>
      <origin rpy="0 0 0" xyz="0 0 0" />
      <geometry>
        <mesh filename="meshes/arm/left_arm_link2.stl" />
      </geometry>
    </collision>
  </link>
  <joint name="left_arm_joint2" type="revolute">
    <origin rpy="1.5707963267948966 0 3.141592653589793" xyz="0 0 0" />
    <parent link="left_arm_link1" />
    <child link="left_arm_link2" />
    <axis xyz="0 0 1" />
    <limit acceleration="2" effort="60" jerk="12" lower="-1.7" upper="1.5707963267948966"
      velocity="1.5" />
    <dynamics damping="0" friction="0" />
  </joint>
  <link name="left_arm_link3">
    <inertial>
      <origin rpy="0 0 0" xyz="0.00019 0.00330 -0.04824" />
      <mass value="1.25" />
      <inertia ixx="0.00955" ixy="0.00000" ixz="0.00001" iyy="0.00983" iyz="0.00007" izz="0.00151" />
    </inertial>
    <visual>
      <origin rpy="0 0 0" xyz="0 0 0" />
      <geometry>
        <mesh filename="meshes/arm/left_arm_link3.obj" />
      </geometry>
    </visual>
    <collision>
      <origin rpy="0 0 0" xyz="0 0 0" />
      <geometry>
        <mesh filename="meshes/arm/left_arm_link3.stl" />
      </geometry>
    </collision>
  </link>
  <joint name="left_arm_joint3" type="revolute">
    <origin rpy="-1.5707963267948966 -1.5707963267948966 0" xyz="0 0.35 0" />
    <parent link="left_arm_link2" />
    <child link="left_arm_link3" />
    <axis xyz="0 0 1" />
    <limit acceleration="2" effort="30" jerk="12" lower="-2.9" upper="2.9" velocity="1.5" />
    <dynamics damping="0" friction="0" />
  </joint>
  <link name="left_arm_link4">
    <inertial>
      <origin rpy="0 0 0" xyz="0.00000 0.06457 0.00899" />
      <mass value="0.8" />
      <inertia ixx="0.00529" ixy="0.00000" ixz="0.00000" iyy="0.00120" iyz="0.00030" izz="0.00488" />
    </inertial>
    <visual>
      <origin rpy="0 0 0" xyz="0 0 0" />
      <geometry>
        <mesh filename="meshes/arm/left_arm_link4.obj" />
      </geometry>
    </visual>
    <collision>
      <origin rpy="0 0 0" xyz="0 0 0" />
      <geometry>
        <mesh filename="meshes/arm/left_arm_link4.stl" />
      </geometry>
    </collision>
  </link>
  <joint name="left_arm_joint4" type="revolute">
    <origin rpy="1.5707963267948966 0 -3.141592653589793" xyz="0 0 0" />
    <parent link="left_arm_link3" />
    <child link="left_arm_link4" />
    <axis xyz="0 0 1" />
    <limit acceleration="2" effort="30" jerk="12" lower="-2.1" upper="2.1" velocity="1.5" />
    <dynamics damping="0" friction="0" />
  </joint>
  <link name="left_arm_link5">
    <inertial>
      <origin rpy="0 0 0" xyz="-0.00201 0.00042 -0.14589" />
      <mass value="1.22" />
      <inertia ixx="0.03428" ixy="0.00001" ixz="0.00039" iyy="0.03366" iyz="0.00010" izz="0.00222" />
    </inertial>
    <visual>
      <origin rpy="0 0 0" xyz="0 0 0" />
      <geometry>
        <mesh filename="meshes/arm/left_arm_link5.obj" />
      </geometry>
    </visual>
    <collision>
      <origin rpy="0 0 0" xyz="0 0 0" />
      <geometry>
        <mesh filename="meshes/arm/left_arm_link5.stl" />
      </geometry>
    </collision>
  </link>
  <joint name="left_arm_joint5" type="revolute">
    <origin rpy="-1.5707963267948966 3.141592653589793 0" xyz="0 0.36 0" />
    <parent link="left_arm_link4" />
    <child link="left_arm_link5" />
    <axis xyz="0 0 1" />
    <limit acceleration="2" effort="10" jerk="12" lower="-2.9" upper="2.9" velocity="1.5" />
    <dynamics damping="0" friction="0" />
  </joint>
  <link name="left_arm_link6">
    <inertial>
      <origin rpy="0 0 0" xyz="0.00000 -0.01031 0.00000" />
      <mass value="0.43" />
      <inertia ixx="0.00051" ixy="0.00000" ixz="0.00000" iyy="0.00070" iyz="0.00000" izz="0.00091" />
    </inertial>
    <visual>
      <origin rpy="0 0 0" xyz="0 0 0" />
      <geometry>
        <mesh filename="meshes/arm/left_arm_link6.obj" />
      </geometry>
    </visual>
    <collision>
      <origin rpy="0 0 0" xyz="0 0 0" />
      <geometry>
        <mesh filename="meshes/arm/left_arm_link6.stl" />
      </geometry>
    </collision>
  </link>
  <joint name="left_arm_joint6" type="revolute">
    <origin rpy="1.5707963267948966 1.5707963267948966 0" xyz="0 0 0" />
    <parent link="left_arm_link5" />
    <child link="left_arm_link6" />
    <axis xyz="0 0 1" />
    <limit acceleration="2" effort="10" jerk="12" lower="-0.785398163" upper="0.785398163"
      velocity="1.5" />
    <dynamics damping="0" friction="0" />
  </joint>
  <link name="left_arm_link7">
    <inertial>
      <origin rpy="0 0 0" xyz="-0.03291 0.00799 -0.00131" />
      <mass value="0.6" />
      <inertia ixx="0.00124" ixy="0.00000" ixz="0.00012" iyy="0.00197" iyz="0.00004" izz="0.00165" />
    </inertial>
    <visual>
      <origin rpy="0 0 0" xyz="0 0 0" />
      <geometry>
        <mesh filename="meshes/arm/left_arm_link7.obj" />
      </geometry>
    </visual>
    <collision>
      <origin rpy="0 0 0" xyz="0 0 0" />
      <geometry>
        <mesh filename="meshes/arm/left_arm_link7.stl" />
      </geometry>
    </collision>
  </link>
  <joint name="left_arm_joint7" type="revolute">
    <origin rpy="1.5707963267948966 0 0" xyz="0 0 0" />
    <parent link="left_arm_link6" />
    <child link="left_arm_link7" />
    <axis xyz="0 0 1" />
    <limit acceleration="2" effort="10" jerk="12" lower="-1.4" upper="1.4" velocity="1.5" />
    <dynamics damping="0" friction="0" />
  </joint>
  <link name="left_arm_end_effector_mount_link">
    <inertial>
      <origin rpy="0 0 0" xyz="0 0 0" />
      <mass value="0" />
      <inertia ixx="0" ixy="0" ixz="0" iyy="0" iyz="0" izz="0" />
    </inertial>
  </link>
  <joint name="left_arm_end_effector_mount_joint" type="fixed">
    <origin rpy="-1.5707963267948966 0 3.141592653589793" xyz="-0.083 0 0" />
    <parent link="left_arm_link7" />
    <child link="left_arm_end_effector_mount_link" />
    <axis xyz="0 0 0" />
  </joint>
  <link name="left_gripper_camera_link">
    <visual>
      <geometry>
        <mesh filename="meshes/gripper/robotiq_gripper/visual/2f_85/d405_camera_link.obj" />
      </geometry>
    </visual>
    <collision>
      <geometry>
        <mesh
          filename="meshes/gripper/robotiq_gripper/collision/2f_85/d405_camera_link_convex_decomposition/d405_camera_link_collision_0.obj" />
      </geometry>
    </collision>
    <collision>
      <geometry>
        <mesh
          filename="meshes/gripper/robotiq_gripper/collision/2f_85/d405_camera_link_convex_decomposition/d405_camera_link_collision_1.obj" />
      </geometry>
    </collision>
    <collision>
      <geometry>
        <mesh
          filename="meshes/gripper/robotiq_gripper/collision/2f_85/d405_camera_link_convex_decomposition/d405_camera_link_collision_2.obj" />
      </geometry>
    </collision>
    <collision>
      <geometry>
        <mesh
          filename="meshes/gripper/robotiq_gripper/collision/2f_85/d405_camera_link_convex_decomposition/d405_camera_link_collision_3.obj" />
      </geometry>
    </collision>
    <collision>
      <geometry>
        <mesh
          filename="meshes/gripper/robotiq_gripper/collision/2f_85/d405_camera_link_convex_decomposition/d405_camera_link_collision_4.obj" />
      </geometry>
    </collision>
    <collision>
      <geometry>
        <mesh
          filename="meshes/gripper/robotiq_gripper/collision/2f_85/d405_camera_link_convex_decomposition/d405_camera_link_collision_5.obj" />
      </geometry>
    </collision>
    <collision>
      <geometry>
        <mesh
          filename="meshes/gripper/robotiq_gripper/collision/2f_85/d405_camera_link_convex_decomposition/d405_camera_link_collision_6.obj" />
      </geometry>
    </collision>
    <collision>
      <geometry>
        <mesh
          filename="meshes/gripper/robotiq_gripper/collision/2f_85/d405_camera_link_convex_decomposition/d405_camera_link_collision_7.obj" />
      </geometry>
    </collision>
    <collision>
      <geometry>
        <mesh
          filename="meshes/gripper/robotiq_gripper/collision/2f_85/d405_camera_link_convex_decomposition/d405_camera_link_collision_8.obj" />
      </geometry>
    </collision>
    <collision>
      <geometry>
        <mesh
          filename="meshes/gripper/robotiq_gripper/collision/2f_85/d405_camera_link_convex_decomposition/d405_camera_link_collision_9.obj" />
      </geometry>
    </collision>
    <collision>
      <geometry>
        <mesh
          filename="meshes/gripper/robotiq_gripper/collision/2f_85/d405_camera_link_convex_decomposition/d405_camera_link_collision_10.obj" />
      </geometry>
    </collision>
    <collision>
      <geometry>
        <mesh
          filename="meshes/gripper/robotiq_gripper/collision/2f_85/d405_camera_link_convex_decomposition/d405_camera_link_collision_11.obj" />
      </geometry>
    </collision>
    <collision>
      <geometry>
        <mesh
          filename="meshes/gripper/robotiq_gripper/collision/2f_85/d405_camera_link_convex_decomposition/d405_camera_link_collision_12.obj" />
      </geometry>
    </collision>
    <collision>
      <geometry>
        <mesh
          filename="meshes/gripper/robotiq_gripper/collision/2f_85/d405_camera_link_convex_decomposition/d405_camera_link_collision_13.obj" />
      </geometry>
    </collision>
    <collision>
      <geometry>
        <mesh
          filename="meshes/gripper/robotiq_gripper/collision/2f_85/d405_camera_link_convex_decomposition/d405_camera_link_collision_14.obj" />
      </geometry>
    </collision>
    <collision>
      <geometry>
        <mesh
          filename="meshes/gripper/robotiq_gripper/collision/2f_85/d405_camera_link_convex_decomposition/d405_camera_link_collision_15.obj" />
      </geometry>
    </collision>
    <collision>
      <geometry>
        <mesh
          filename="meshes/gripper/robotiq_gripper/collision/2f_85/d405_camera_link_convex_decomposition/d405_camera_link_collision_16.obj" />
      </geometry>
    </collision>
    <collision>
      <geometry>
        <mesh
          filename="meshes/gripper/robotiq_gripper/collision/2f_85/d405_camera_link_convex_decomposition/d405_camera_link_collision_17.obj" />
      </geometry>
    </collision>
    <collision>
      <geometry>
        <mesh
          filename="meshes/gripper/robotiq_gripper/collision/2f_85/d405_camera_link_convex_decomposition/d405_camera_link_collision_18.obj" />
      </geometry>
    </collision>
    <collision>
      <geometry>
        <mesh
          filename="meshes/gripper/robotiq_gripper/collision/2f_85/d405_camera_link_convex_decomposition/d405_camera_link_collision_19.obj" />
      </geometry>
    </collision>
    <collision>
      <geometry>
        <mesh
          filename="meshes/gripper/robotiq_gripper/collision/2f_85/d405_camera_link_convex_decomposition/d405_camera_link_collision_20.obj" />
      </geometry>
    </collision>
    <collision>
      <geometry>
        <mesh
          filename="meshes/gripper/robotiq_gripper/collision/2f_85/d405_camera_link_convex_decomposition/d405_camera_link_collision_21.obj" />
      </geometry>
    </collision>
    <collision>
      <geometry>
        <mesh
          filename="meshes/gripper/robotiq_gripper/collision/2f_85/d405_camera_link_convex_decomposition/d405_camera_link_collision_22.obj" />
      </geometry>
    </collision>
    <collision>
      <geometry>
        <mesh
          filename="meshes/gripper/robotiq_gripper/collision/2f_85/d405_camera_link_convex_decomposition/d405_camera_link_collision_23.obj" />
      </geometry>
    </collision>
    <collision>
      <geometry>
        <mesh
          filename="meshes/gripper/robotiq_gripper/collision/2f_85/d405_camera_link_convex_decomposition/d405_camera_link_collision_24.obj" />
      </geometry>
    </collision>
    <collision>
      <geometry>
        <mesh
          filename="meshes/gripper/robotiq_gripper/collision/2f_85/d405_camera_link_convex_decomposition/d405_camera_link_collision_25.obj" />
      </geometry>
    </collision>
    <collision>
      <geometry>
        <mesh
          filename="meshes/gripper/robotiq_gripper/collision/2f_85/d405_camera_link_convex_decomposition/d405_camera_link_collision_26.obj" />
      </geometry>
    </collision>
    <collision>
      <geometry>
        <mesh
          filename="meshes/gripper/robotiq_gripper/collision/2f_85/d405_camera_link_convex_decomposition/d405_camera_link_collision_27.obj" />
      </geometry>
    </collision>
    <collision>
      <geometry>
        <mesh
          filename="meshes/gripper/robotiq_gripper/collision/2f_85/d405_camera_link_convex_decomposition/d405_camera_link_collision_28.obj" />
      </geometry>
    </collision>
    <collision>
      <geometry>
        <mesh
          filename="meshes/gripper/robotiq_gripper/collision/2f_85/d405_camera_link_convex_decomposition/d405_camera_link_collision_29.obj" />
      </geometry>
    </collision>
    <collision>
      <geometry>
        <mesh
          filename="meshes/gripper/robotiq_gripper/collision/2f_85/d405_camera_link_convex_decomposition/d405_camera_link_collision_30.obj" />
      </geometry>
    </collision>
    <collision>
      <geometry>
        <mesh
          filename="meshes/gripper/robotiq_gripper/collision/2f_85/d405_camera_link_convex_decomposition/d405_camera_link_collision_31.obj" />
      </geometry>
    </collision>
    <collision>
      <geometry>
        <mesh
          filename="meshes/gripper/robotiq_gripper/collision/2f_85/d405_camera_link_convex_decomposition/d405_camera_link_collision_32.obj" />
      </geometry>
    </collision>
  </link>
  <link name="left_gripper_galbot_to_robotiq_adapter_link">
    <inertial>
      <origin rpy="0 0 0" xyz="-1.9028E-07 5.9618E-18 -0.0041416" />
      <mass value="0.023056" />
      <inertia ixx="5.5937E-06" ixy="-4.3322E-08" ixz="2.321E-10" iyy="5.3172E-06" iyz="1.9904E-12"
        izz="1.0645E-05" />
    </inertial>
    <visual>
      <origin rpy="0 0 0" xyz="0 0 0" />
      <geometry>
        <mesh filename="meshes/gripper/robotiq_gripper/visual/2f_85/galbot_to_robotiq_adapter.obj" />
      </geometry>
    </visual>
    <collision>
      <origin rpy="0 0 0" xyz="0 0 0" />
      <geometry>
        <mesh
          filename="meshes/gripper/robotiq_gripper/collision/2f_85/galbot_to_robotiq_adapter_convex.stl" />
      </geometry>
    </collision>
  </link>
  <link name="left_gripper_robotiq_85_base_link">
    <visual>
      <geometry>
        <mesh filename="meshes/gripper/robotiq_gripper/visual/2f_85/robotiq_base.dae" />
      </geometry>
    </visual>
    <collision>
      <geometry>
        <mesh filename="meshes/gripper/robotiq_gripper/collision/2f_85/robotiq_base.stl" />
      </geometry>
    </collision>
    <inertial>
      <origin rpy="0 0 0" xyz="0.0 2.274e-05 0.03232288" />
      <mass value="6.6320197e-01" />
      <inertia ixx="5.1617816e-04" ixy="2.936e-8" ixz="0.0" iyy="5.8802208e-04" iyz="-3.2296e-7"
        izz="3.9462776e-04" />
    </inertial>
  </link>
  <link name="left_gripper_robotiq_85_left_knuckle_link">
    <visual>
      <geometry>
        <mesh filename="meshes/gripper/robotiq_gripper/visual/2f_85/left_knuckle.dae" />
      </geometry>
    </visual>
    <collision>
      <geometry>
        <mesh filename="meshes/gripper/robotiq_gripper/collision/2f_85/left_knuckle.stl" />
      </geometry>
    </collision>
    <inertial>
      <origin rpy="0 0 0" xyz="0.01213197 0.0002 -0.00058647" />
      <mass value="1.384773208e-02" />
      <inertia ixx="3.5232e-7" ixy="0.0" ixz="1.1744e-7" iyy="2.31944e-6" iyz="0" izz="2.23136e-6" />
    </inertial>
  </link>
  <link name="left_gripper_robotiq_85_right_knuckle_link">
    <visual>
      <geometry>
        <mesh filename="meshes/gripper/robotiq_gripper/visual/2f_85/right_knuckle.dae" />
      </geometry>
    </visual>
    <collision>
      <geometry>
        <mesh filename="meshes/gripper/robotiq_gripper/collision/2f_85/right_knuckle.stl" />
      </geometry>
    </collision>
    <inertial>
      <origin rpy="0 0 0" xyz="-0.01213197 0.0002 -0.00058647" />
      <mass value="1.384773208e-02" />
      <inertia ixx="3.5232e-7" ixy="0.0" ixz="-1.1744e-7" iyy="2.31944e-6" iyz="0.0"
        izz="2.23136e-6" />
    </inertial>
  </link>
  <link name="left_gripper_robotiq_85_left_finger_link">
    <visual>
      <geometry>
        <mesh filename="meshes/gripper/robotiq_gripper/visual/2f_85/left_finger.dae" />
      </geometry>
    </visual>
    <collision>
      <geometry>
        <mesh filename="meshes/gripper/robotiq_gripper/collision/2f_85/left_finger.stl" />
      </geometry>
    </collision>
    <inertial>
      <origin rpy="0 0 0" xyz="0.00346899 -0.00079447 0.01867121" />
      <mass value="4.260376752e-02" />
      <inertia ixx="1.385792000000000e-05" ixy="0.0" ixz="-2.17264e-06" iyy="1.183208e-05" iyz="0.0"
        izz="5.19672e-06" />
    </inertial>
  </link>
  <link name="left_gripper_robotiq_85_right_finger_link">
    <visual>
      <geometry>
        <mesh filename="meshes/gripper/robotiq_gripper/visual/2f_85/right_finger.dae" />
      </geometry>
    </visual>
    <collision>
      <geometry>
        <mesh filename="meshes/gripper/robotiq_gripper/collision/2f_85/right_finger.stl" />
      </geometry>
    </collision>
    <inertial>
      <origin rpy="0 0 0" xyz="-0.00346899 -5.53e-06 0.01867121" />
      <mass value="4.260376752000000e-02" />
      <inertia ixx="1.385792e-05" ixy="0.0" ixz="2.17264e-06" iyy="1.183208e-05" iyz="0.0"
        izz="5.19672e-06" />
    </inertial>
  </link>
  <link name="left_gripper_robotiq_85_left_inner_knuckle_link">
    <visual>
      <geometry>
        <mesh filename="meshes/gripper/robotiq_gripper/visual/2f_85/left_inner_knuckle.dae" />
      </geometry>
    </visual>
    <collision>
      <geometry>
        <mesh filename="meshes/gripper/robotiq_gripper/collision/2f_85/left_inner_knuckle.stl" />
      </geometry>
    </collision>
    <inertial>
      <origin rpy="0 0 0" xyz="0.01897699 0.00015001 0.02247101" />
      <mass value="2.969376448e-02" />
      <inertia ixx="9.57136e-06" ixy="0.0" ixz="-3.93424e-06" iyy="8.69056e-06" iyz="0.0"
        izz="8.19144e-06" />
    </inertial>
  </link>
  <link name="left_gripper_robotiq_85_right_inner_knuckle_link">
    <visual>
      <geometry>
        <mesh filename="meshes/gripper/robotiq_gripper/visual/2f_85/right_inner_knuckle.dae" />
      </geometry>
    </visual>
    <collision>
      <geometry>
        <mesh filename="meshes/gripper/robotiq_gripper/collision/2f_85/right_inner_knuckle.stl" />
      </geometry>
    </collision>
    <inertial>
      <origin rpy="0 0 0" xyz="-0.01926824 5.001e-05 0.02222178" />
      <mass value="2.969376448e-02" />
      <inertia ixx="9.42456e-06" ixy="0.0" ixz="3.9636e-06" iyy="8.69056e-06" iyz="0.0"
        izz="8.33824e-06" />
    </inertial>
  </link>
  <link name="left_gripper_robotiq_85_left_finger_tip_link">
    <visual>
      <geometry>
        <mesh filename="meshes/gripper/robotiq_gripper/visual/2f_85/left_finger_tip.obj" />
      </geometry>
    </visual>
    <collision>
      <geometry>
        <mesh
          filename="meshes/gripper/robotiq_gripper/collision/2f_85/left_finger_tip_convex_decomposition/left_finger_tip_collision_0.obj" />
      </geometry>
    </collision>
    <collision>
      <geometry>
        <mesh
          filename="meshes/gripper/robotiq_gripper/collision/2f_85/left_finger_tip_convex_decomposition/left_finger_tip_collision_1.obj" />
      </geometry>
    </collision>
    <collision>
      <geometry>
        <mesh
          filename="meshes/gripper/robotiq_gripper/collision/2f_85/left_finger_tip_convex_decomposition/left_finger_tip_collision_2.obj" />
      </geometry>
    </collision>
    <collision>
      <geometry>
        <mesh
          filename="meshes/gripper/robotiq_gripper/collision/2f_85/left_finger_tip_convex_decomposition/left_finger_tip_collision_3.obj" />
      </geometry>
    </collision>
    <collision>
      <geometry>
        <mesh
          filename="meshes/gripper/robotiq_gripper/collision/2f_85/left_finger_tip_convex_decomposition/left_finger_tip_collision_4.obj" />
      </geometry>
    </collision>
    <collision>
      <geometry>
        <mesh
          filename="meshes/gripper/robotiq_gripper/collision/2f_85/left_finger_tip_convex_decomposition/left_finger_tip_collision_5.obj" />
      </geometry>
    </collision>
    <collision>
      <geometry>
        <mesh
          filename="meshes/gripper/robotiq_gripper/collision/2f_85/left_finger_tip_convex_decomposition/left_finger_tip_collision_6.obj" />
      </geometry>
    </collision>
    <collision>
      <geometry>
        <mesh
          filename="meshes/gripper/robotiq_gripper/collision/2f_85/left_finger_tip_convex_decomposition/left_finger_tip_collision_7.obj" />
      </geometry>
    </collision>
    <collision>
      <geometry>
        <mesh
          filename="meshes/gripper/robotiq_gripper/collision/2f_85/left_finger_tip_convex_decomposition/left_finger_tip_collision_8.obj" />
      </geometry>
    </collision>
    <collision>
      <geometry>
        <mesh
          filename="meshes/gripper/robotiq_gripper/collision/2f_85/left_finger_tip_convex_decomposition/left_finger_tip_collision_9.obj" />
      </geometry>
    </collision>
    <inertial>
      <origin rpy="0 0 0" xyz="-0.01456706 -0.0008 0.01649701" />
      <mass value="4.268588744e-02" />
      <inertia ixx="1.048152e-05" ixy="0.0" ixz="3.5232e-6" iyy="1.197888e-05" iyz="0.0"
        izz="4.22784e-06" />
    </inertial>
  </link>
  <link name="left_gripper_robotiq_85_right_finger_tip_link">
    <visual>
      <geometry>
        <mesh filename="meshes/gripper/robotiq_gripper/visual/2f_85/right_finger_tip.obj" />
      </geometry>
    </visual>
    <collision>
      <geometry>
        <mesh
          filename="meshes/gripper/robotiq_gripper/collision/2f_85/right_finger_tip_convex_decomposition/right_finger_tip_collision_0.obj" />
      </geometry>
    </collision>
    <collision>
      <geometry>
        <mesh
          filename="meshes/gripper/robotiq_gripper/collision/2f_85/right_finger_tip_convex_decomposition/right_finger_tip_collision_1.obj" />
      </geometry>
    </collision>
    <collision>
      <geometry>
        <mesh
          filename="meshes/gripper/robotiq_gripper/collision/2f_85/right_finger_tip_convex_decomposition/right_finger_tip_collision_2.obj" />
      </geometry>
    </collision>
    <collision>
      <geometry>
        <mesh
          filename="meshes/gripper/robotiq_gripper/collision/2f_85/right_finger_tip_convex_decomposition/right_finger_tip_collision_3.obj" />
      </geometry>
    </collision>
    <collision>
      <geometry>
        <mesh
          filename="meshes/gripper/robotiq_gripper/collision/2f_85/right_finger_tip_convex_decomposition/right_finger_tip_collision_4.obj" />
      </geometry>
    </collision>
    <collision>
      <geometry>
        <mesh
          filename="meshes/gripper/robotiq_gripper/collision/2f_85/right_finger_tip_convex_decomposition/right_finger_tip_collision_5.obj" />
      </geometry>
    </collision>
    <collision>
      <geometry>
        <mesh
          filename="meshes/gripper/robotiq_gripper/collision/2f_85/right_finger_tip_convex_decomposition/right_finger_tip_collision_6.obj" />
      </geometry>
    </collision>
    <collision>
      <geometry>
        <mesh
          filename="meshes/gripper/robotiq_gripper/collision/2f_85/right_finger_tip_convex_decomposition/right_finger_tip_collision_7.obj" />
      </geometry>
    </collision>
    <collision>
      <geometry>
        <mesh
          filename="meshes/gripper/robotiq_gripper/collision/2f_85/right_finger_tip_convex_decomposition/right_finger_tip_collision_8.obj" />
      </geometry>
    </collision>
    <collision>
      <geometry>
        <mesh
          filename="meshes/gripper/robotiq_gripper/collision/2f_85/right_finger_tip_convex_decomposition/right_finger_tip_collision_9.obj" />
      </geometry>
    </collision>
    <collision>
      <geometry>
        <mesh
          filename="meshes/gripper/robotiq_gripper/collision/2f_85/right_finger_tip_convex_decomposition/right_finger_tip_collision_10.obj" />
      </geometry>
    </collision>
    <inertial>
      <origin rpy="0 0 0" xyz="0.01456706 5e-05 0.01649701" />
      <mass value="4.268588744e-02" />
      <inertia ixx="1.048152e-05" ixy="0.0" ixz="-3.5232e-06" iyy="1.197888e-05" iyz="0.0"
        izz="4.22784e-06" />
    </inertial>
  </link>
  <joint name="left_gripper_joint" type="fixed">
    <origin rpy="0 1.5707963267948966 0" xyz="0.008 0 0" />
    <parent link="left_arm_end_effector_mount_link" />
    <child link="left_gripper_galbot_to_robotiq_adapter_link" />
  </joint>
  <joint name="left_gripper_camera_joint" type="fixed">
    <origin rpy="0 1.5707963267948966 0" xyz="0.008 0 0" />
    <parent link="left_arm_end_effector_mount_link" />
    <child link="left_gripper_camera_link" />
  </joint>
  <joint name="left_gripper_galbot_to_robotiq_adapter_joint" type="fixed">
    <parent link="left_gripper_galbot_to_robotiq_adapter_link" />
    <child link="left_gripper_robotiq_85_base_link" />
    <origin rpy="0 0 0" xyz="0 0 0" />
    <axis xyz="0 0 0" />
  </joint>
  <joint name="left_gripper_robotiq_85_left_knuckle_joint" type="revolute">
    <parent link="left_gripper_robotiq_85_base_link" />
    <child link="left_gripper_robotiq_85_left_knuckle_link" />
    <axis xyz="0 1 0" />
    <origin rpy="0 0 0" xyz="0.03060114 0.0 0.05490452" />
    <limit effort="50" lower="-0.8" upper="0" velocity="0.5" />
    <mimic joint="left_gripper_robotiq_85_right_knuckle_joint" multiplier="-1" />
  </joint>
  <joint name="left_gripper_robotiq_85_right_knuckle_joint" type="revolute">
    <parent link="left_gripper_robotiq_85_base_link" />
    <child link="left_gripper_robotiq_85_right_knuckle_link" />
    <axis xyz="0 1 0" />
    <origin rpy="0 0 0" xyz="-0.03060114 0.0 0.05490452" />
    <limit effort="50" lower="0" upper="0.8" velocity="0.5" />
  </joint>
  <joint name="left_gripper_robotiq_85_left_finger_joint" type="fixed">
    <parent link="left_gripper_robotiq_85_left_knuckle_link" />
    <child link="left_gripper_robotiq_85_left_finger_link" />
    <origin rpy="0 0 0" xyz="0.03152616 0.0 -0.00376347" />
  </joint>
  <joint name="left_gripper_robotiq_85_right_finger_joint" type="fixed">
    <parent link="left_gripper_robotiq_85_right_knuckle_link" />
    <child link="left_gripper_robotiq_85_right_finger_link" />
    <origin rpy="0 0 0" xyz="-0.03152616 0.0 -0.00376347" />
  </joint>
  <joint name="left_gripper_robotiq_85_left_inner_knuckle_joint" type="continuous">
    <parent link="left_gripper_robotiq_85_base_link" />
    <child link="left_gripper_robotiq_85_left_inner_knuckle_link" />
    <axis xyz="0 1 0" />
    <origin rpy="0 0 0" xyz="0.0127 0.0 0.06142" />
    <limit effort="50" lower="-0.8" upper="0" velocity="0.5" />
    <mimic joint="left_gripper_robotiq_85_right_knuckle_joint" multiplier="-1" />
  </joint>
  <joint name="left_gripper_robotiq_85_right_inner_knuckle_joint" type="continuous">
    <parent link="left_gripper_robotiq_85_base_link" />
    <child link="left_gripper_robotiq_85_right_inner_knuckle_link" />
    <axis xyz="0 1 0" />
    <origin rpy="0 0 0" xyz="-0.0127 0.0 0.06142" />
    <limit effort="50" lower="0" upper="0.8" velocity="0.5" />
    <mimic joint="left_gripper_robotiq_85_right_knuckle_joint" multiplier="1" />
  </joint>
  <joint name="left_gripper_robotiq_85_left_finger_tip_joint" type="continuous">
    <parent link="left_gripper_robotiq_85_left_finger_link" />
    <child link="left_gripper_robotiq_85_left_finger_tip_link" />
    <axis xyz="0 1 0" />
    <origin rpy="0 0 0" xyz="0.00563134 0.0 0.04718515" />
    <limit effort="50" lower="0" upper="0.8" velocity="0.5" />
    <mimic joint="left_gripper_robotiq_85_right_knuckle_joint" multiplier="1" />
  </joint>
  <joint name="left_gripper_robotiq_85_right_finger_tip_joint" type="continuous">
    <parent link="left_gripper_robotiq_85_right_finger_link" />
    <child link="left_gripper_robotiq_85_right_finger_tip_link" />
    <axis xyz="0 1 0" />
    <origin rpy="0 0 0" xyz="-0.00563134 0.0 0.04718515" />
    <limit effort="50" lower="-0.8" upper="0" velocity="0.5" />
    <mimic joint="left_gripper_robotiq_85_right_knuckle_joint" multiplier="-1" />
  </joint>
  <!-- For tcp-->
  <link name="left_gripper_tcp_link" />
  <joint name="left_gripper_tcp_joint" type="fixed">
    <parent link="left_gripper_robotiq_85_base_link" />
    <child link="left_gripper_tcp_link" />
    <origin rpy="-1.5707963267948966 -1.5707963267948966 0" xyz="0.0 0.0 0.15" />
    <!-- 0.17084 is the distance between the gripper base link and the tcp link -->
  </joint>
</robot>
